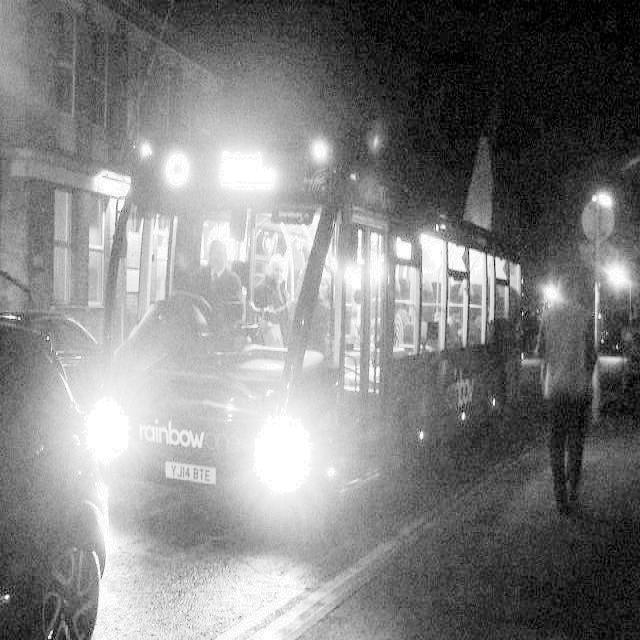Bus: (136, 100, 529, 494)
Car: (0, 310, 113, 640)
